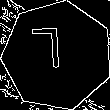L_S: (40, 30, 74, 82)
